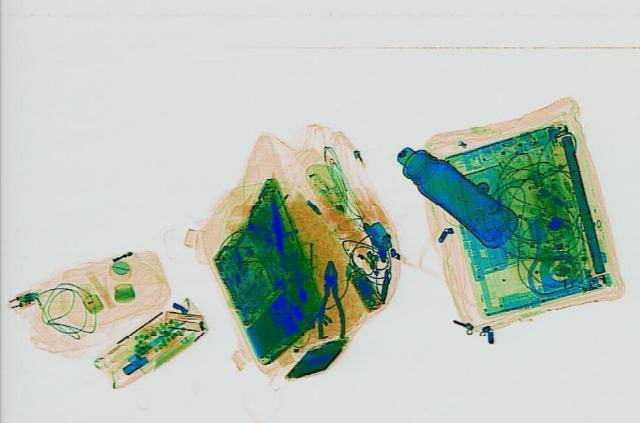Pliers: (316, 258, 344, 337)
